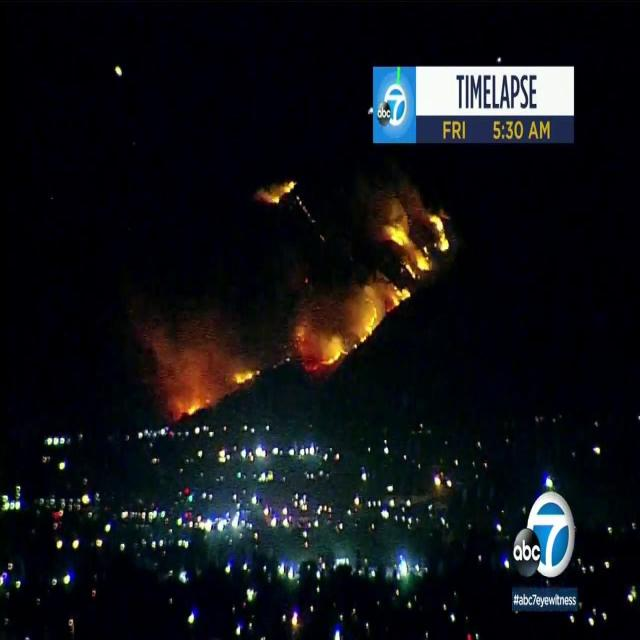Fire: (353, 308, 377, 348), (427, 212, 449, 252), (269, 180, 295, 206), (406, 251, 430, 278), (392, 286, 410, 311), (391, 225, 410, 248), (233, 368, 254, 388), (324, 349, 344, 368), (187, 402, 200, 417)
